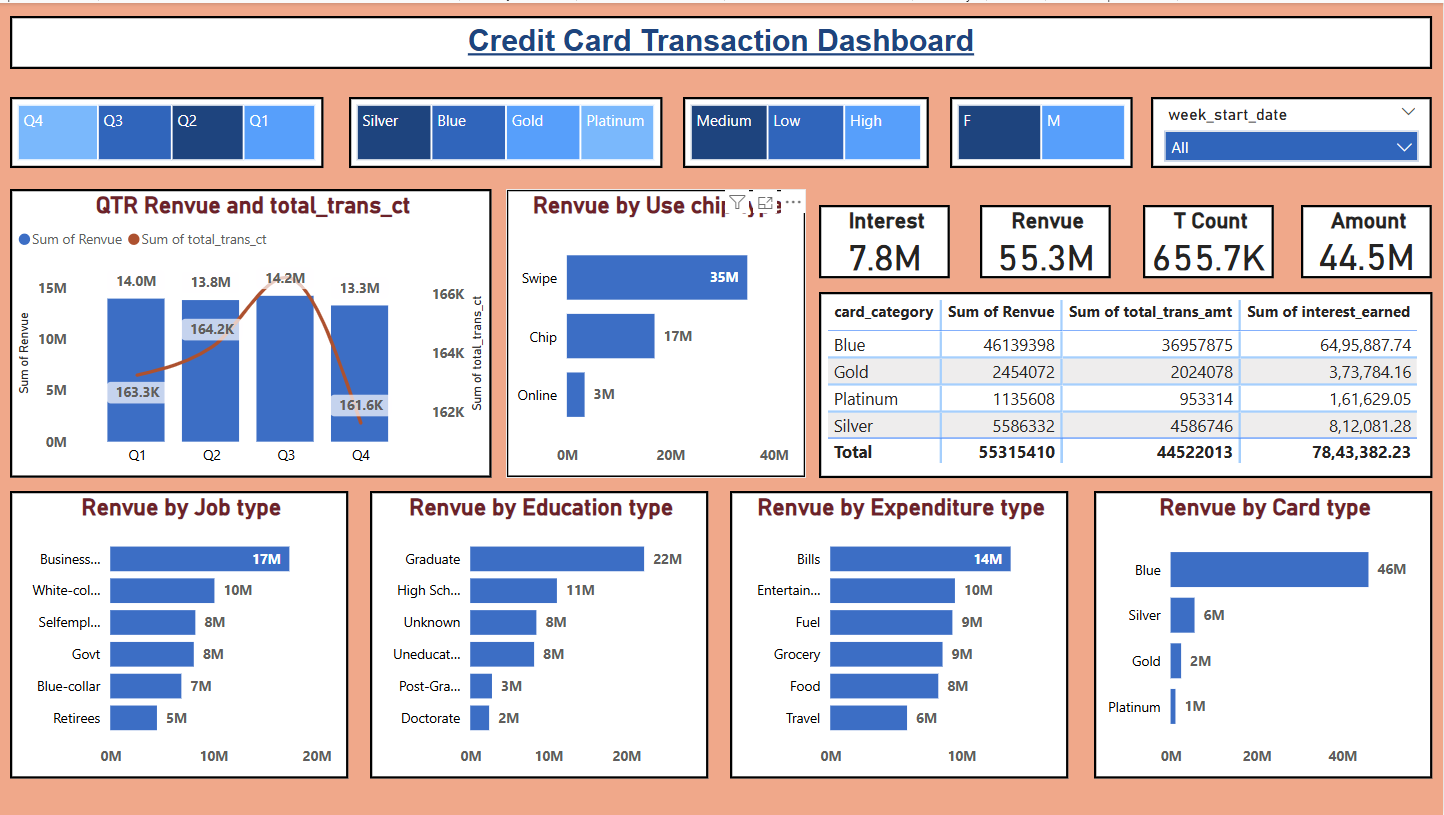

The page's visual inventory and layout, read from the dashboard file:
{"tool":"powerbi","page":{"name":"CC Transaction","canvas":[1280,720],"ordinal":1},"visuals":[{"type":"textbox","box":[9.8,11.5,1260.9,47],"z":0},{"type":"lineStackedColumnComboChart","title":"QTR Renvue and total_trans_ct ","fields":{"Category":["public cc_detail.qtr"],"Y":["Sum(public cc_detail.Renvue)"],"Y2":["Sum(public cc_detail.total_trans_ct)"]},"box":[9.8,164.9,427.4,256.3],"z":1000},{"type":"barChart","title":" Renvue by Expenditure type","fields":{"Y":["Sum(public cc_detail.Renvue)"],"Category":["public cc_detail.exp_type"]},"box":[648.2,432.7,299.7,255.4],"z":2000},{"type":"barChart","title":" Renvue by Job type","fields":{"Y":["Sum(public cc_detail.Renvue)"],"Category":["public cust_detail.customer_job"]},"box":[9.8,432.7,300,255.4],"z":3000},{"type":"barChart","title":" Renvue by Education type","fields":{"Y":["Sum(public cc_detail.Renvue)"],"Category":["public cust_detail.education_level"]},"box":[329,432.7,299.7,255.4],"z":4000},{"type":"barChart","title":" Renvue by Card type","fields":{"Y":["Sum(public cc_detail.Renvue)"],"Category":["public cc_detail.card_category"]},"box":[970.9,432.7,299.7,255.4],"z":5000},{"type":"barChart","title":" Renvue by Use chip type","fields":{"Y":["Sum(public cc_detail.Renvue)"],"Category":["public cc_detail.use_chip"]},"box":[449.6,164.9,266,256.3],"z":6000},{"type":"tableEx","fields":{"Values":["public cc_detail.card_category","Sum(public cc_detail.Renvue)","Sum(public cc_detail.total_trans_amt)","Sum(public cc_detail.interest_earned)"]},"box":[727.1,256.3,543.5,164.9],"z":7000},{"type":"card","title":"Renvue","fields":{"Values":["Sum(public cc_detail.Renvue)"]},"box":[869.9,179.1,116.2,64.7],"z":8000},{"type":"card","title":" Amount","fields":{"Values":["Sum(public cc_detail.total_trans_amt)"]},"box":[1154.5,179.1,116.2,64.7],"z":9000},{"type":"card","title":"Interest","fields":{"Values":["Sum(public cc_detail.interest_earned)"]},"box":[727.1,179.1,116.2,64.7],"z":10000},{"type":"card","title":"T Count","fields":{"Values":["Sum(public cc_detail.total_trans_ct)"]},"box":[1014.4,179.1,116.2,64.7],"z":11000},{"type":"treemap","fields":{"Group":["public cc_detail.qtr"],"Values":["Avg(public cc_detail.client_num)"]},"box":[9.8,83.3,277.5,63],"z":12000},{"type":"slicer","fields":{"Values":["public cc_detail.week_start_date"]},"box":[1021.5,83.3,249.2,63],"z":13000},{"type":"treemap","fields":{"Values":["Avg(public cc_detail.client_num)"],"Group":["public cust_detail.gender"]},"box":[843.3,83.3,162.3,63],"z":14000},{"type":"treemap","fields":{"Group":["public cc_detail.card_category"],"Values":["Avg(public cc_detail.client_num)"]},"box":[310.3,83.3,277.5,63],"z":15000},{"type":"treemap","fields":{"Values":["Avg(public cc_detail.client_num)"],"Group":["public cust_detail.Income_Group"]},"box":[606.5,83.3,218.1,63],"z":16000}]}

Visuals, with their boxes in screenshot pixels (x1, y1, x2, y2), scaled from the page's 1280x720 canvas onto the 1444x815 screenshot:
textbox: 11:13:1434:66
"QTR Renvue and total_trans_ct " lineStackedColumnComboChart: 11:187:493:477
" Renvue by Expenditure type" barChart: 731:490:1069:779
" Renvue by Job type" barChart: 11:490:349:779
" Renvue by Education type" barChart: 371:490:709:779
" Renvue by Card type" barChart: 1095:490:1433:779
" Renvue by Use chip type" barChart: 507:187:807:477
tableEx - public cc_detail.card_category x Sum(public cc_detail.Renvue): 820:290:1433:477
"Renvue" card: 981:203:1112:276
" Amount" card: 1302:203:1434:276
"Interest" card: 820:203:951:276
"T Count" card: 1144:203:1275:276
treemap - public cc_detail.qtr x Avg(public cc_detail.client_num): 11:94:324:166
slicer - public cc_detail.week_start_date: 1152:94:1434:166
treemap - Avg(public cc_detail.client_num) x public cust_detail.gender: 951:94:1134:166
treemap - public cc_detail.card_category x Avg(public cc_detail.client_num): 350:94:663:166
treemap - Avg(public cc_detail.client_num) x public cust_detail.Income_Group: 684:94:930:166
